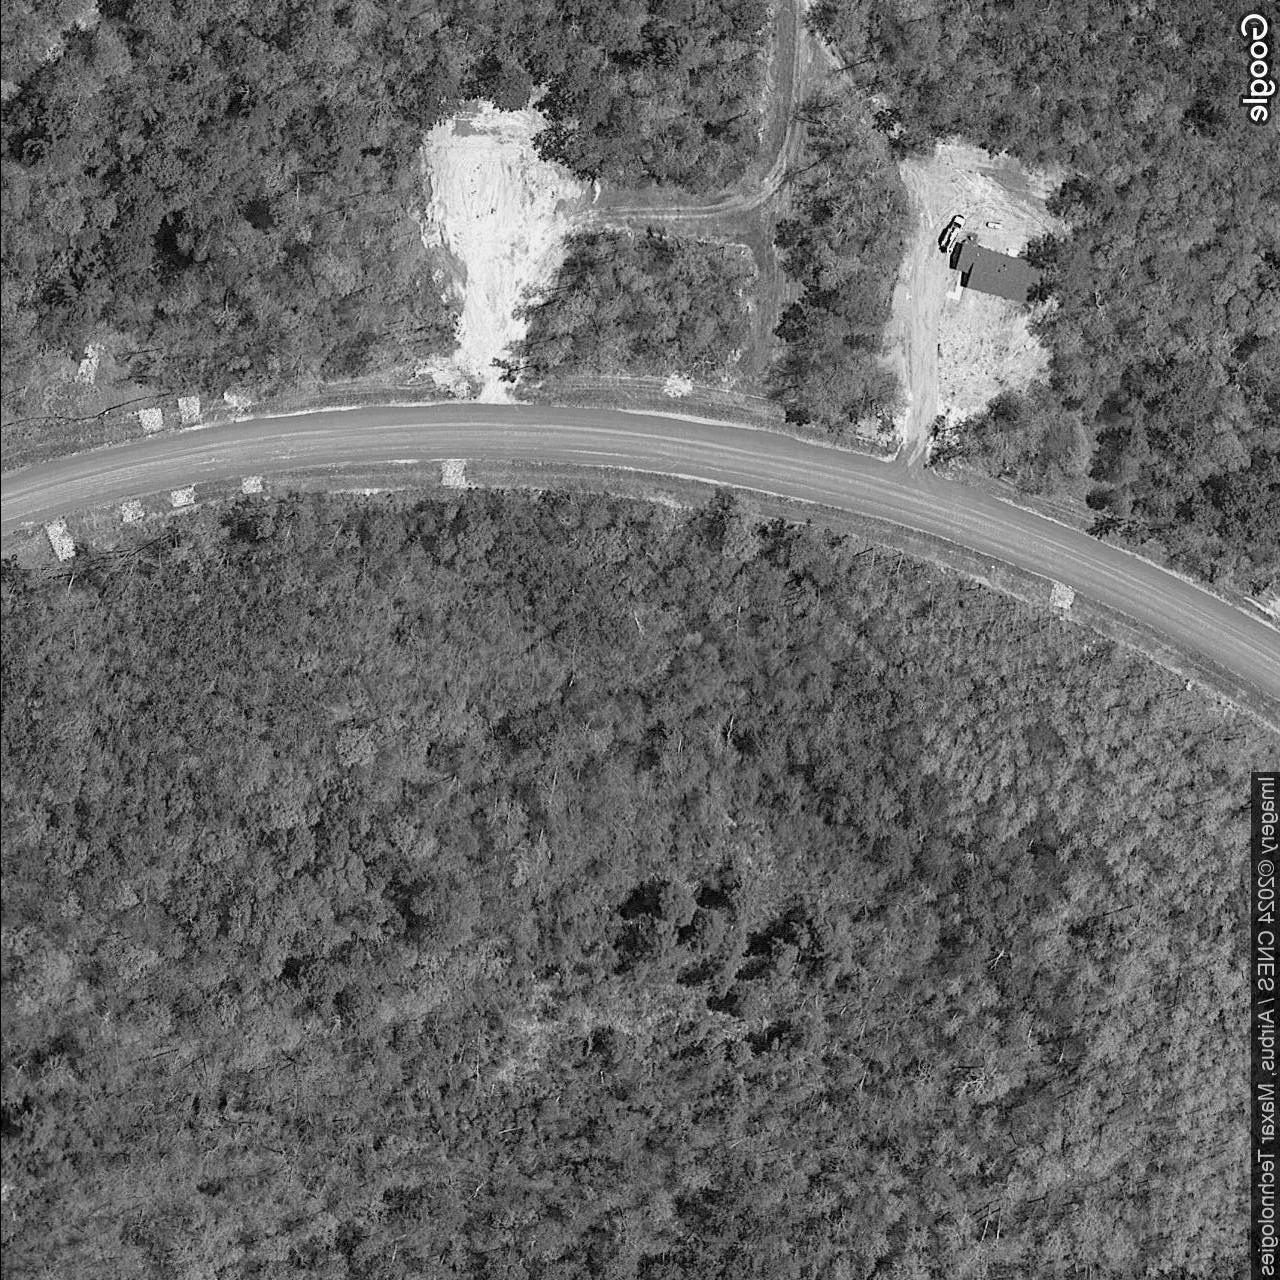House: (953, 241, 1046, 306)
Propane: (983, 219, 1002, 231)
